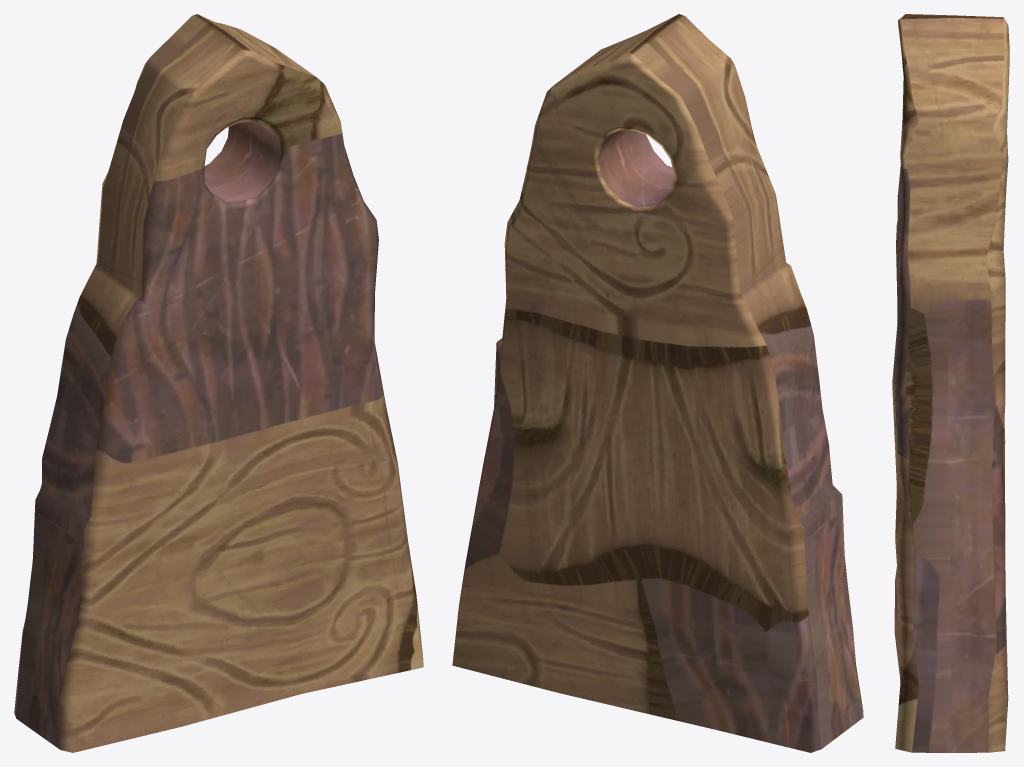
3 views of the same model, side by side, from view 1: azimuth 30°, elevation 25°; view 2: azimuth 150°, elevation 25°; view 3: azimuth 270°, elevation 25° (orthographic).
Parts seen in each view (by area): view 1: SM_Longbow_OakWood_2H_01_LOD0; view 2: SM_Longbow_OakWood_2H_01_LOD0; view 3: SM_Longbow_OakWood_2H_01_LOD0.
Part boxes in pixels (left/top/right/bottom): SM_Longbow_OakWood_2H_01_LOD0: left=14, top=14, right=423, bottom=752; SM_Longbow_OakWood_2H_01_LOD0: left=452, top=14, right=863, bottom=752; SM_Longbow_OakWood_2H_01_LOD0: left=892, top=14, right=1009, bottom=752.
Bounding box in the file's own units: 3.84 × 6.58 × 1.08.
